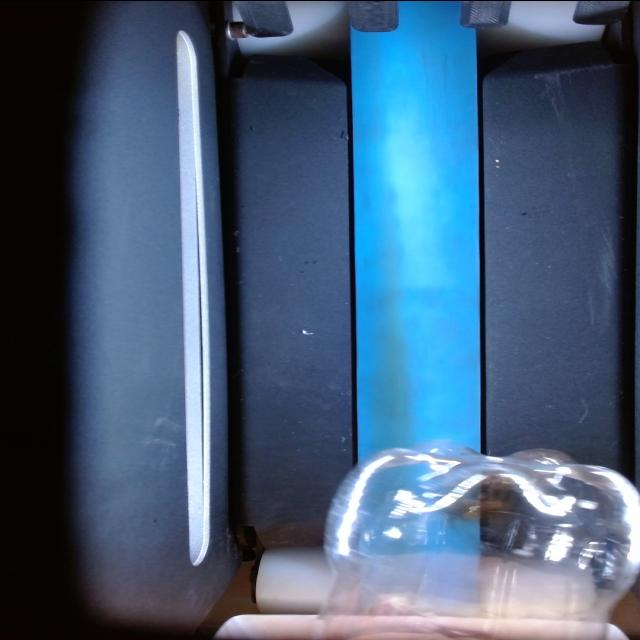bottom: (322, 443, 638, 640)
